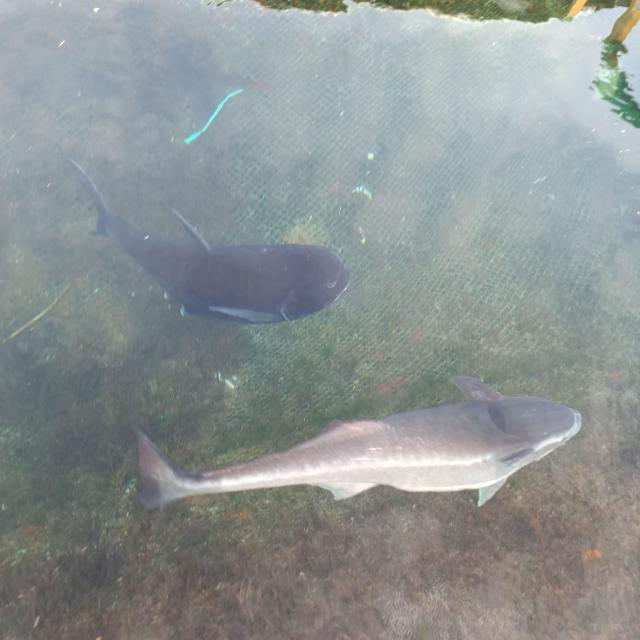ikan: (133, 373, 582, 512), (63, 154, 351, 326)
